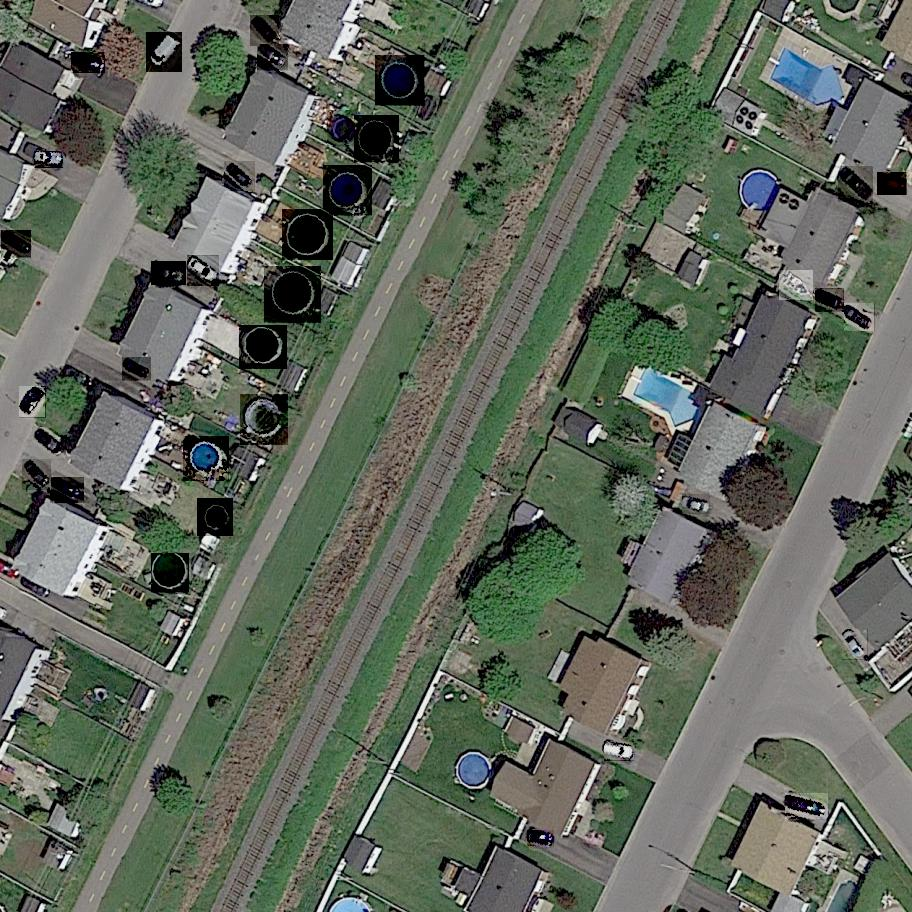ship: (778, 270, 815, 301)
small-vehicle: (145, 32, 183, 72), (837, 166, 874, 202), (31, 427, 68, 460), (785, 794, 829, 819), (185, 256, 219, 287), (249, 16, 280, 48), (224, 162, 256, 192), (843, 303, 877, 331), (22, 459, 52, 490), (50, 478, 85, 504), (151, 261, 187, 286), (0, 231, 32, 259), (19, 386, 46, 418), (258, 44, 290, 71), (842, 629, 868, 660), (814, 289, 846, 313), (875, 173, 908, 196), (69, 53, 106, 73), (122, 358, 152, 382), (604, 742, 636, 762), (681, 494, 713, 514), (527, 829, 555, 846), (35, 152, 63, 167)
storage-tank: (264, 266, 323, 324), (282, 209, 334, 261), (375, 56, 427, 107), (240, 394, 289, 446), (324, 166, 373, 217), (354, 115, 400, 164), (239, 326, 288, 371), (184, 436, 230, 482), (151, 553, 189, 592), (197, 499, 234, 537), (327, 110, 358, 147)
